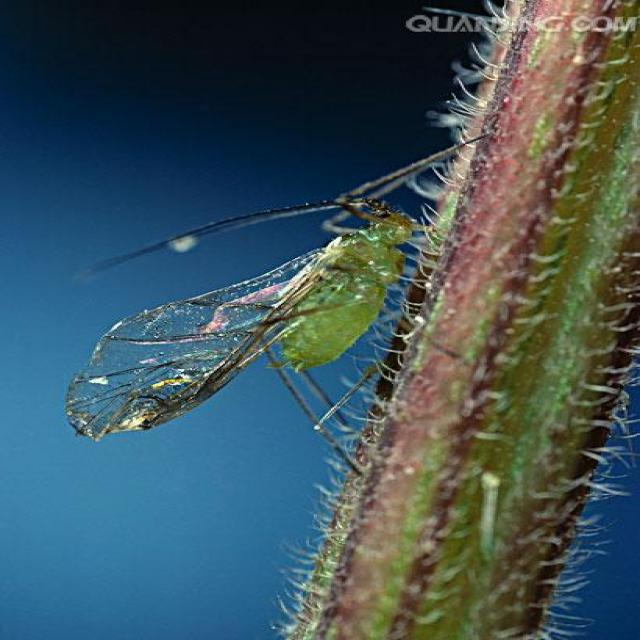Aphids: (79, 125, 485, 478)
